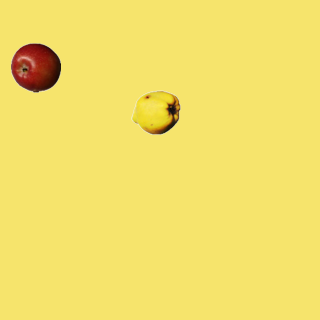Apple Braeburn: (10, 42, 60, 92)
Quince: (130, 87, 180, 137)
